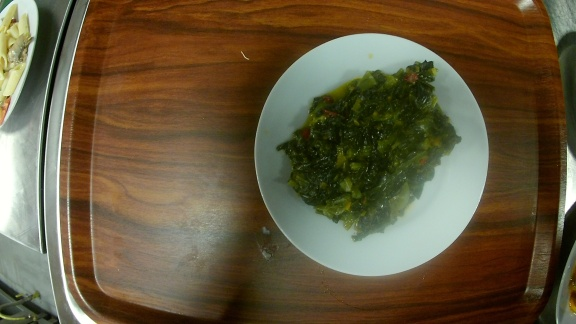ispanak: (254, 31, 492, 278)
